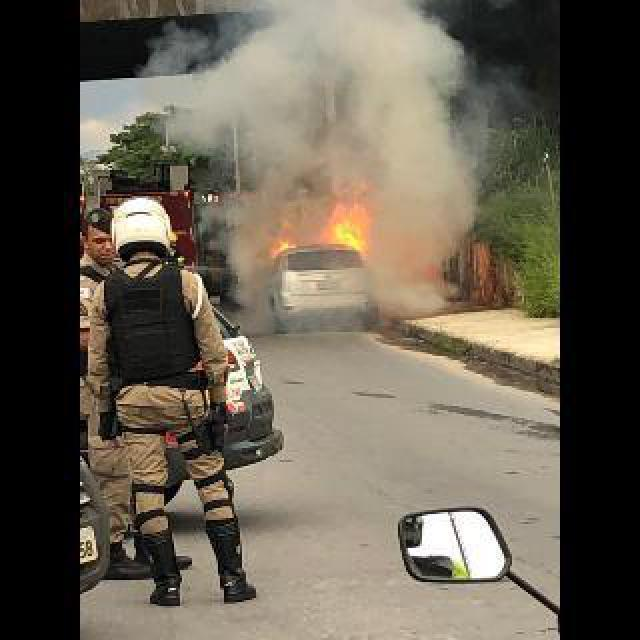Fire: (326, 180, 370, 252), (276, 240, 294, 254)
Smoke: (208, 0, 476, 328)
